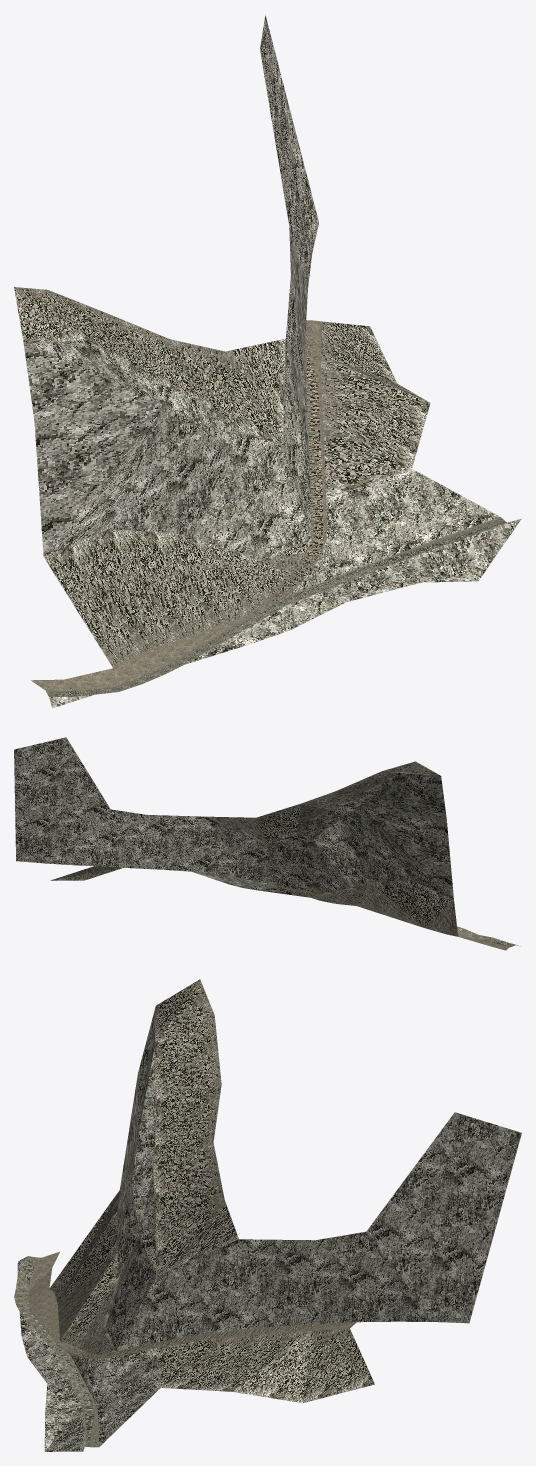
File: lod_cs_landbit_37.obj
3 views of the same model, one above another, from view 1: azimuth 30°, elevation 25°; view 2: azimuth 150°, elevation 25°; view 3: azimuth 270°, elevation 25° (orthographic). The views are drawn at different scales.
Parts seen in each view (by area): view 1: lod_cs_landbit_37; view 2: lod_cs_landbit_37; view 3: lod_cs_landbit_37.
Boxes of the visible parts, x1,y1,x2,y2 form: lod_cs_landbit_37: (14,15,521,708); lod_cs_landbit_37: (14,737,520,950); lod_cs_landbit_37: (14,979,521,1451).
Size of the model in its own units: 248 by 176 by 231.
Materials: 5 (5 with a texture image).
